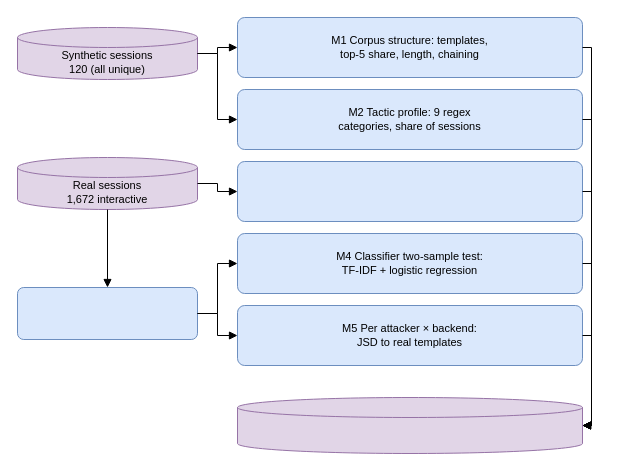
Image size: 617x471. Some labels were removed from this diagram. The shapes that lost their labels are listed below. From the top down, each one's centre as x and y in pixels, then its label:
the point at 409,191: M3 Verb JSD (base 2), bootstrap CI, Jaccard, coverage
the point at 107,313: Dedup by template → 22 templates
the point at 409,425: results/domain_shift.md + .json
